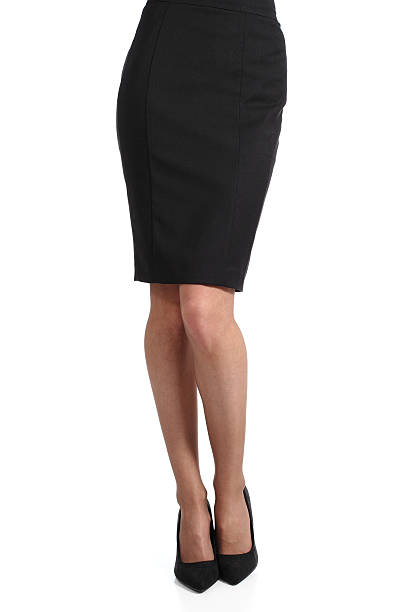F_tailored skirt: (106, 3, 303, 300)
